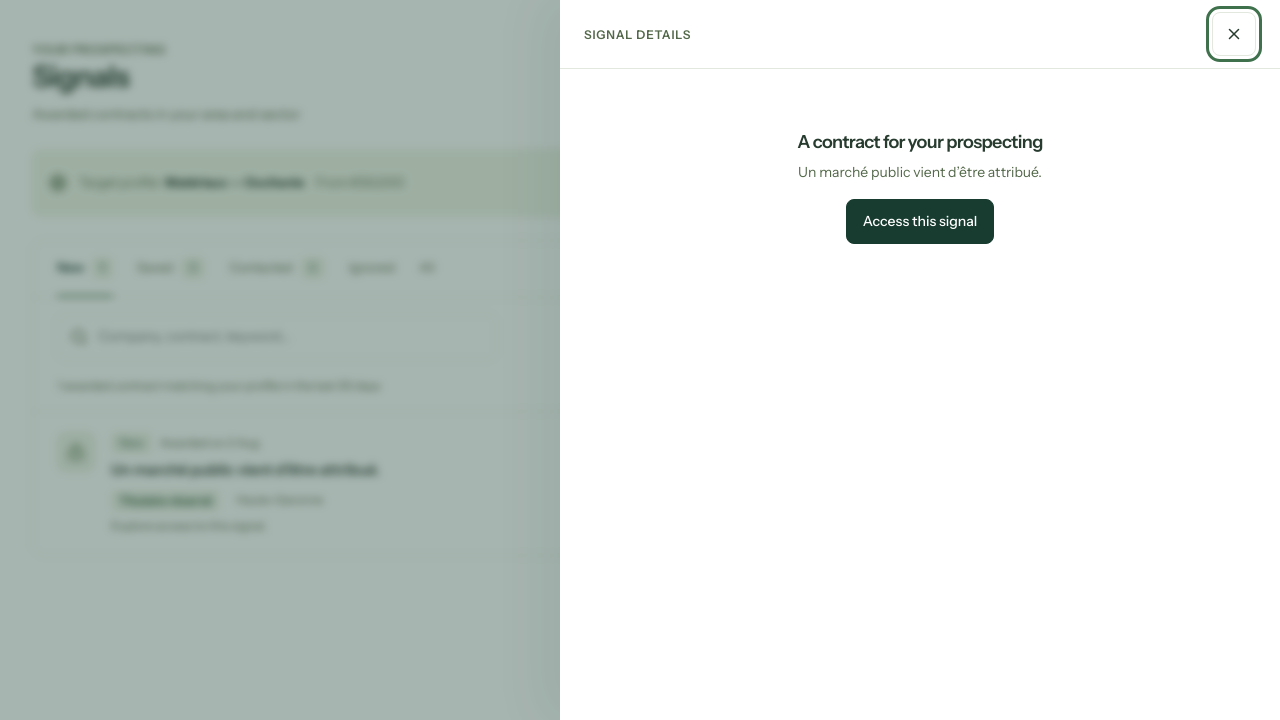
Test case: promesse du paywall › ne promet pas l’ensemble du flux — EN
The image size is (1280, 720).
Click the button "Access this signal". click: (920, 221)
box: [846,199,994,244]
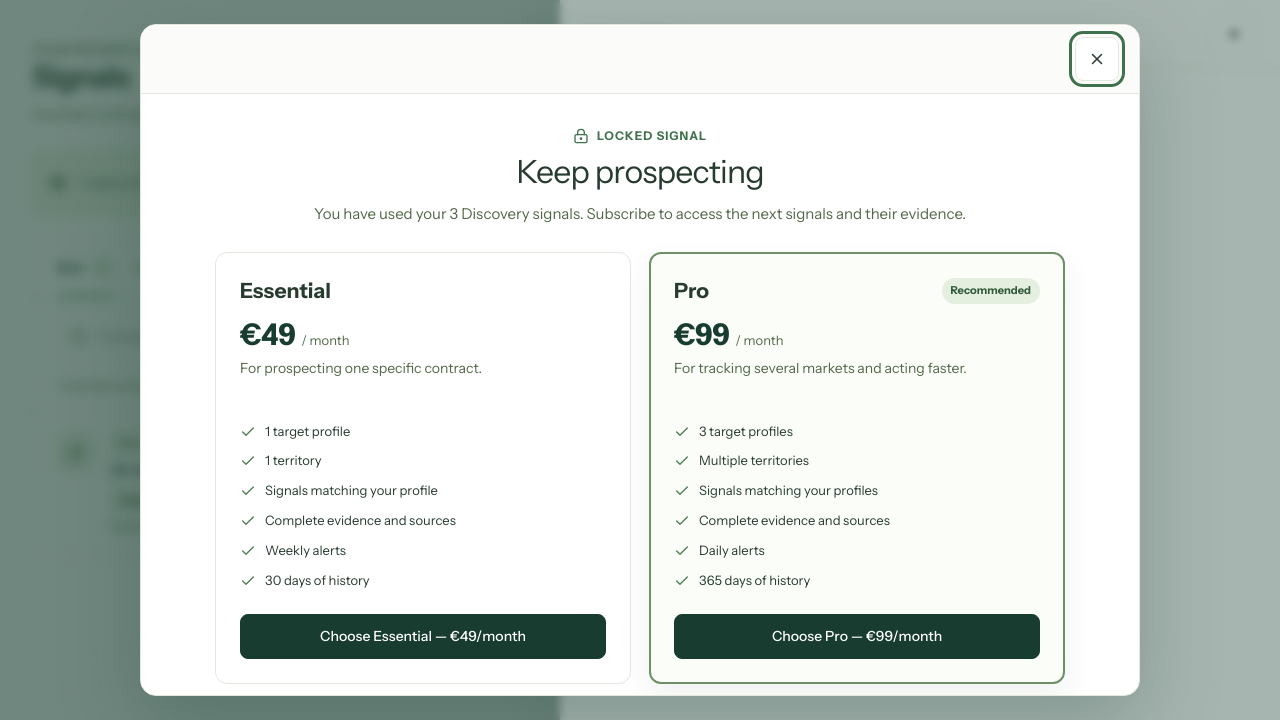
Expected: the heading "Keep prospecting" is shown, [516,152,764,191]
Expected: the text "365 days of history" is shown, [674,572,810,589]
